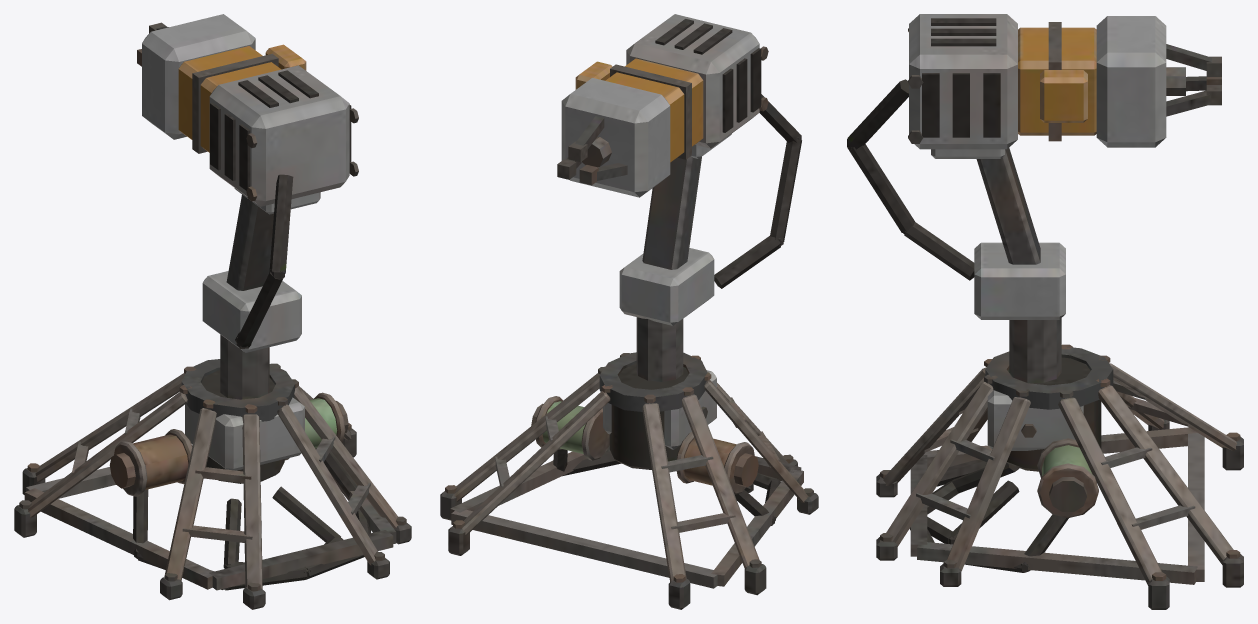
File: laser-turret.glb
3 views of the same model, side by side, from view 1: azimuth 30°, elevation 25°; view 2: azimuth 150°, elevation 25°; view 3: azimuth 270°, elevation 25° (orthographic). The views are drawn at different scales.
Visible parts, largest first — view 1: anim_turret_head, body; view 2: anim_turret_head, body; view 3: anim_turret_head, body.
Boxes of the visible parts, x1,y1,x2,y2 form: anim_turret_head: (137,14,358,470); body: (14,359,411,609); anim_turret_head: (557,14,801,449); body: (440,352,818,609); anim_turret_head: (847,14,1221,450); body: (876,344,1243,609).
Bounding box in the file's own units: 1.85 × 2.5 × 1.82.
1 material, 1 textured.
